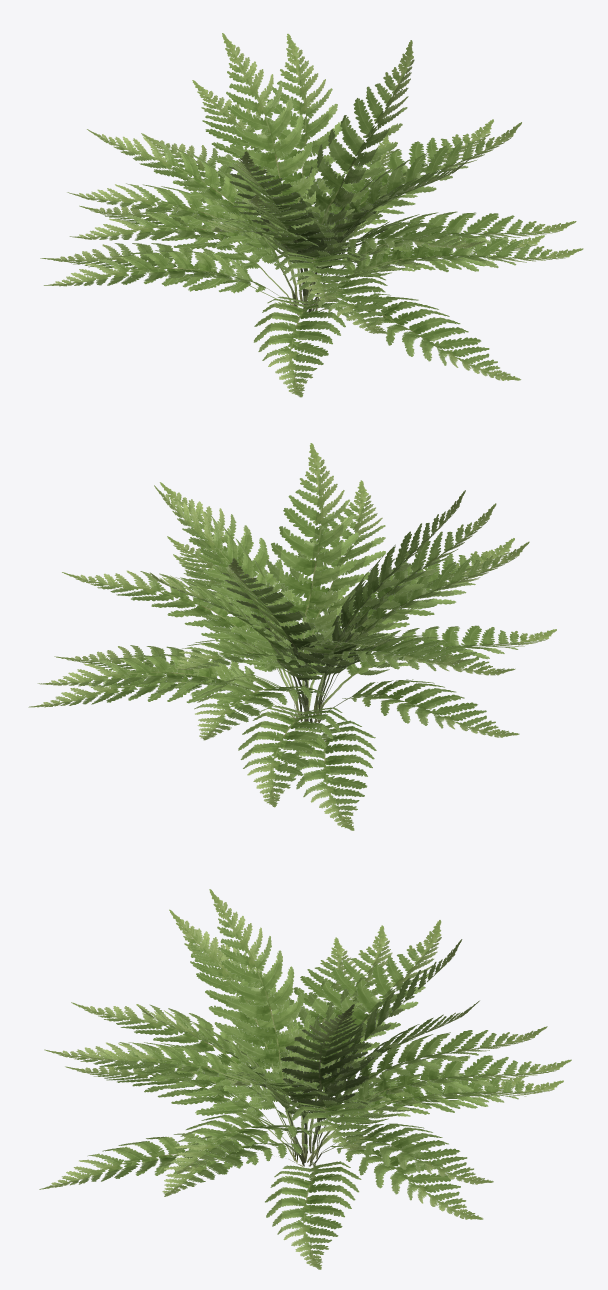
Rendered from Fern.fbx.
3 views of the same model, one above another, from view 1: azimuth 30°, elevation 25°; view 2: azimuth 150°, elevation 25°; view 3: azimuth 270°, elevation 25° (orthographic).
Visible parts, largest first — view 1: free-png.ru-600, free-png.ru-600.009, free-png.ru-600.025, free-png.ru-600.019, free-png.ru-600.020, free-png.ru-600.017, free-png.ru-600.015, free-png.ru-600.024, free-png.ru-600.011, free-png.ru-600.003, free-png.ru-600.005, free-png.ru-600.013 (+14 smaller); view 2: free-png.ru-600.007, free-png.ru-600.001, free-png.ru-600.026, free-png.ru-600.022, free-png.ru-600.023, free-png.ru-600.002, free-png.ru-600.020, free-png.ru-600.009, free-png.ru-600.024, free-png.ru-600.021, free-png.ru-600.016, free-png.ru-600 (+14 smaller); view 3: free-png.ru-600.018, free-png.ru-600.008, free-png.ru-600.015, free-png.ru-600.016, free-png.ru-600.009, free-png.ru-600.021, free-png.ru-600.014, free-png.ru-600.002, free-png.ru-600.004, free-png.ru-600.003, free-png.ru-600.010, free-png.ru-600.023 (+14 smaller).
Boxes of the visible parts, x1,y1,x2,y2 form: free-png.ru-600: (222, 33, 316, 303); free-png.ru-600.009: (299, 40, 414, 294); free-png.ru-600.025: (253, 33, 345, 303); free-png.ru-600.019: (253, 296, 349, 397); free-png.ru-600.020: (43, 250, 298, 315); free-png.ru-600.017: (320, 293, 521, 380); free-png.ru-600.015: (87, 129, 293, 305); free-png.ru-600.024: (316, 122, 521, 304); free-png.ru-600.011: (329, 235, 583, 292); free-png.ru-600.003: (319, 211, 576, 300); free-png.ru-600.005: (67, 183, 294, 305); free-png.ru-600.013: (69, 210, 296, 306); free-png.ru-600.007: (266, 443, 358, 698); free-png.ru-600.001: (238, 705, 347, 807); free-png.ru-600.026: (284, 720, 376, 830); free-png.ru-600.022: (62, 570, 296, 718); free-png.ru-600.023: (279, 480, 385, 710); free-png.ru-600.002: (37, 654, 299, 723); free-png.ru-600.020: (318, 679, 519, 737); free-png.ru-600.009: (154, 485, 297, 718); free-png.ru-600.024: (159, 482, 303, 715); free-png.ru-600.021: (194, 674, 325, 740); free-png.ru-600.016: (319, 503, 496, 713); free-png.ru-600: (223, 558, 333, 710); free-png.ru-600.018: (209, 889, 312, 1143); free-png.ru-600.008: (265, 1161, 361, 1269); free-png.ru-600.015: (302, 920, 441, 1153); free-png.ru-600.016: (169, 909, 302, 1155); free-png.ru-600.009: (280, 1004, 369, 1159); free-png.ru-600.021: (318, 1055, 571, 1152); free-png.ru-600.014: (319, 1026, 547, 1145); free-png.ru-600.002: (315, 1123, 493, 1184); free-png.ru-600.004: (71, 1002, 294, 1157); free-png.ru-600.003: (174, 1111, 315, 1173); free-png.ru-600.010: (313, 1131, 483, 1219); free-png.ru-600.023: (75, 1042, 295, 1159).
Bounding box in the file's own units: 244 × 119 × 245.
1 material, 1 textured.
